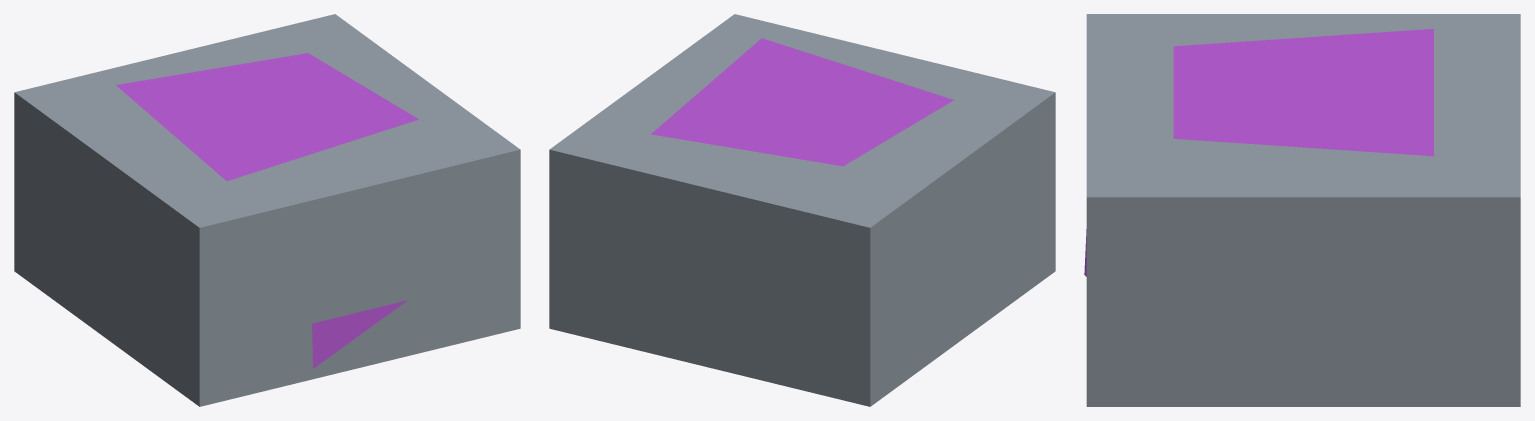
File: CH_Barracks_LOD1.glb
The picture shows the model from 3 angles, left to right: view 1: azimuth 30°, elevation 25°; view 2: azimuth 150°, elevation 25°; view 3: azimuth 270°, elevation 25°; orthographic projection. The views are drawn at different scales.
Parts seen in each view (by area): view 1: EntranceGate; view 2: EntranceGate; view 3: EntranceGate.
Part boxes in pixels (x1,y1,x2,y2): EntranceGate: (14, 14, 520, 406); EntranceGate: (549, 14, 1055, 406); EntranceGate: (1084, 14, 1520, 406).
Bounding box in the file's own units: 600 × 353 × 603.
